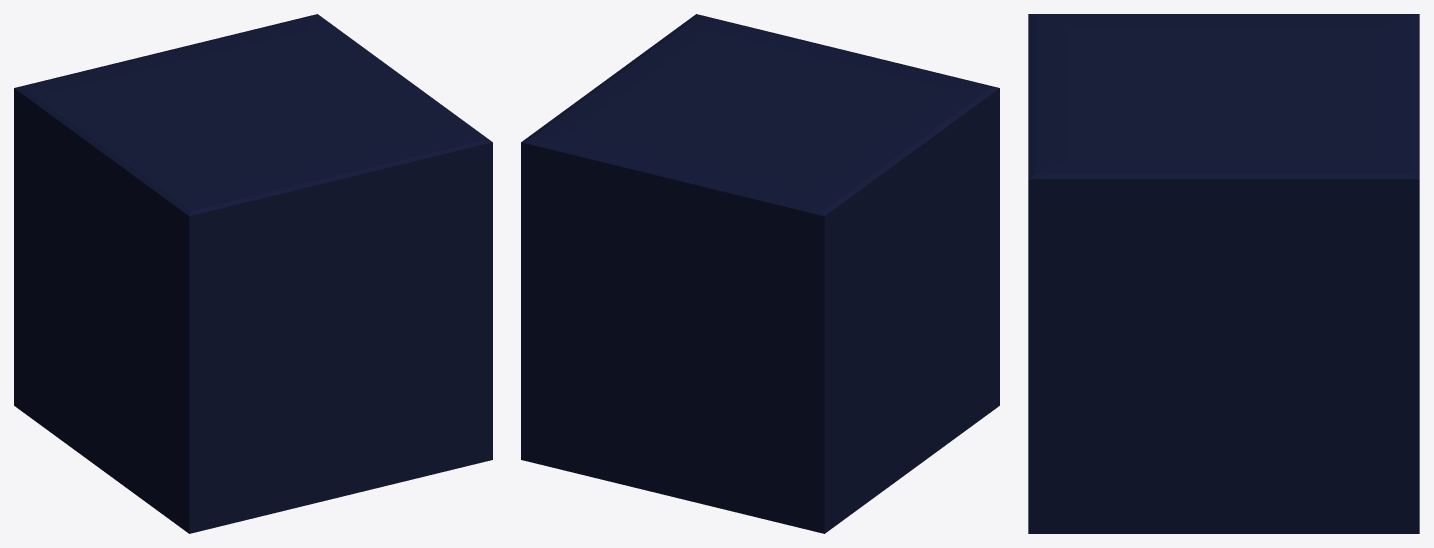
The model's file is poof_blue.fbx.
3 renders of one model, left to right at view 1: azimuth 30°, elevation 25°; view 2: azimuth 150°, elevation 25°; view 3: azimuth 270°, elevation 25°, orthographic. The views are drawn at different scales.
Parts seen in each view (by area): view 1: Cube; view 2: Cube; view 3: Cube.
Boxes of the visible parts, <box> form: Cube: <box>14,14,492,533</box>; Cube: <box>521,14,999,533</box>; Cube: <box>1028,14,1419,533</box>.
Size of the model in its own units: 200 by 204 by 200.
